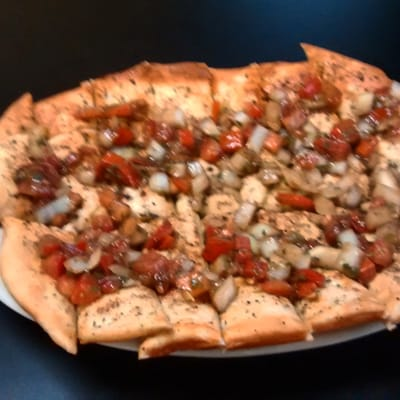sandwich: (0, 57, 399, 356)
